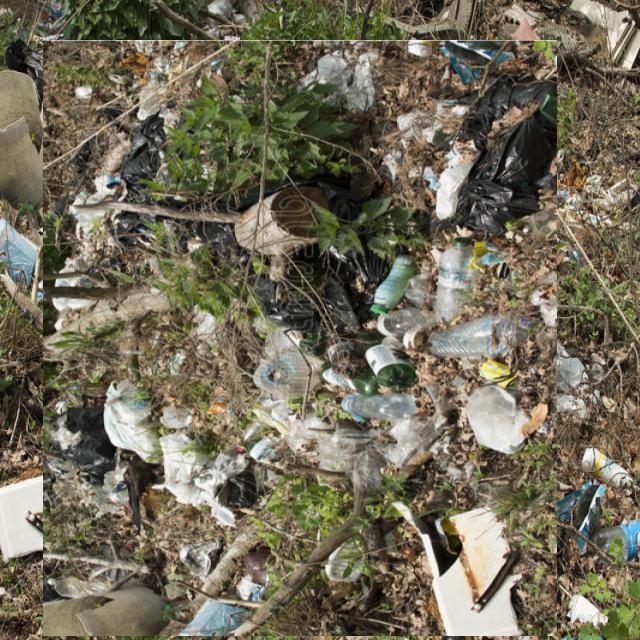Trashbag: (476, 127, 551, 231), (29, 406, 113, 477)
